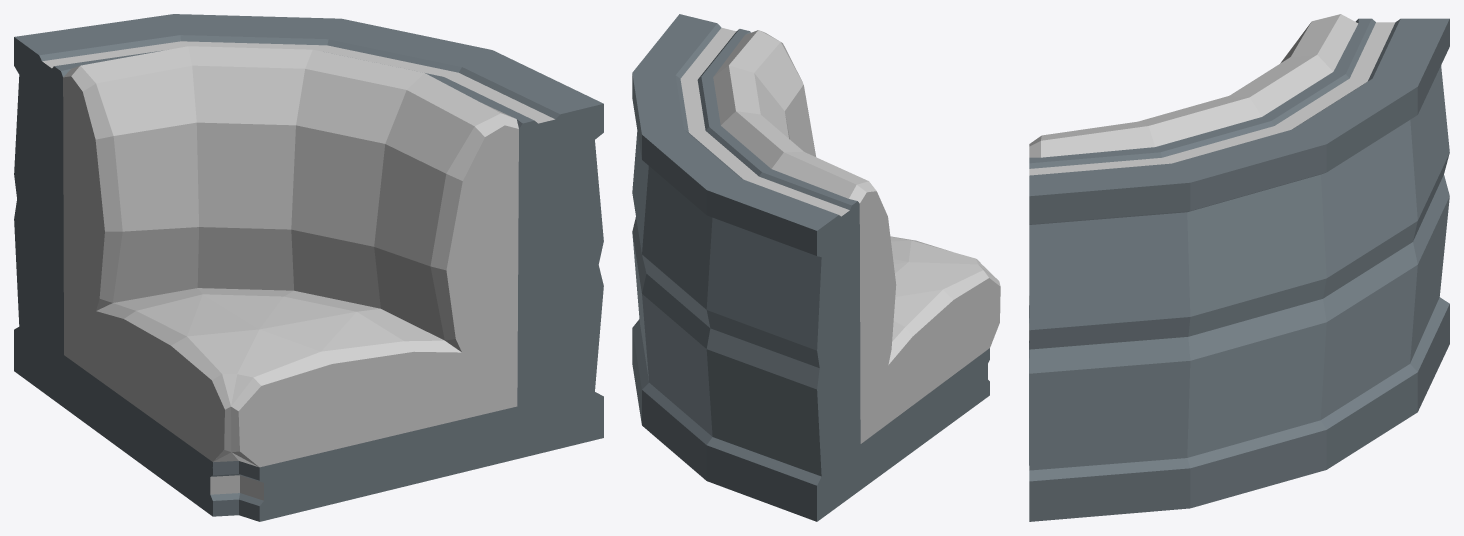
Rendered from SM_Prop_Sofa_02_Corner_05.fbx.
3 renders of one model, left to right at view 1: azimuth 30°, elevation 25°; view 2: azimuth 150°, elevation 25°; view 3: azimuth 270°, elevation 25°, orthographic. The views are drawn at different scales.
Parts seen in each view (by area): view 1: SM_Prop_Sofa_02_Corner_05; view 2: SM_Prop_Sofa_02_Corner_05; view 3: SM_Prop_Sofa_02_Corner_05.
Part boxes in pixels (box(x1,y1,x2,y2)): SM_Prop_Sofa_02_Corner_05: box(14, 14, 603, 521); SM_Prop_Sofa_02_Corner_05: box(632, 14, 1000, 521); SM_Prop_Sofa_02_Corner_05: box(1029, 14, 1449, 521).
Bounding box in the file's own units: 125 × 111 × 125.
